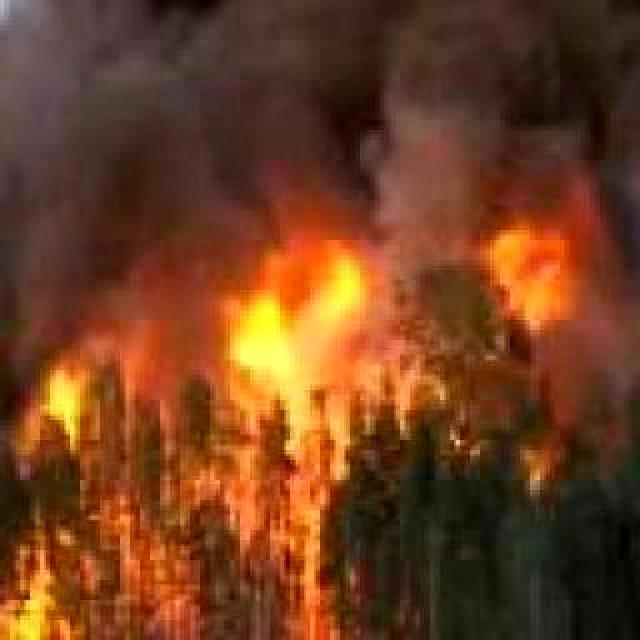fire: (0, 240, 370, 640), (488, 210, 574, 386)
